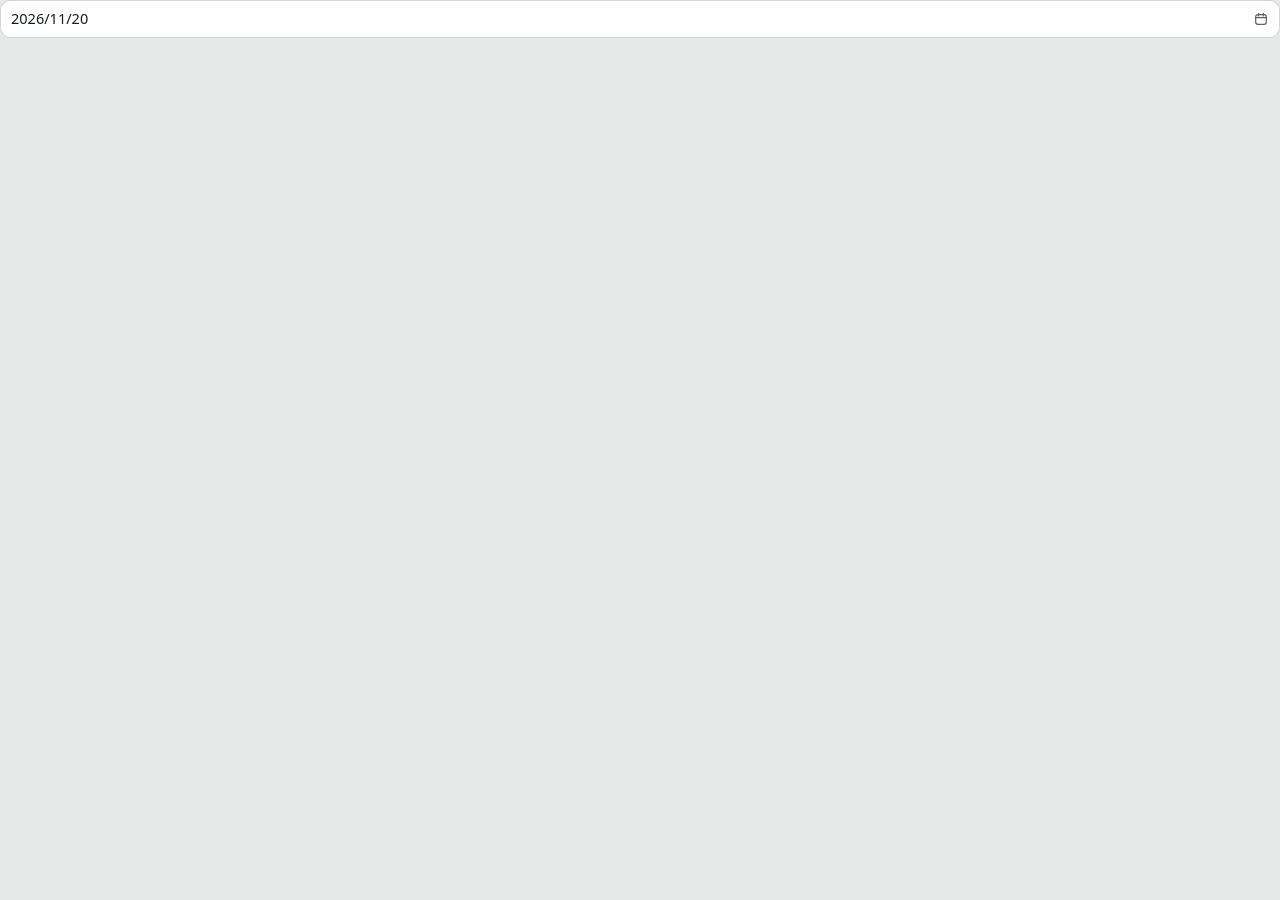
Test: the date field follows the app, not the browser › shows the date in the app's language and picks from a month grid
Later steps or results of the test are not shown.
Click the button named "Due" at (28, 18), box [0,0,1279,38]
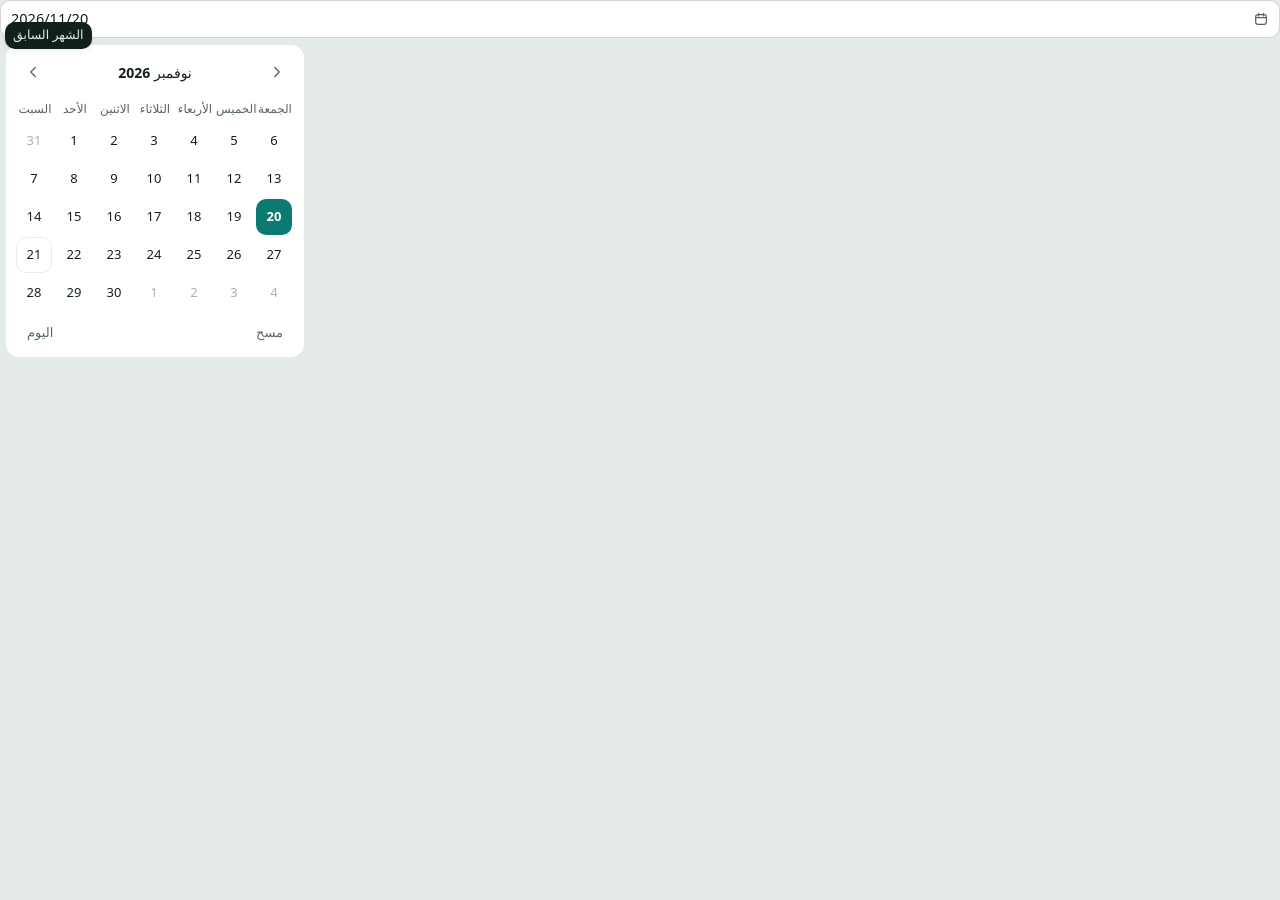
expect the text "نوفمبر 2026" is shown: met, box [118,62,192,82]
